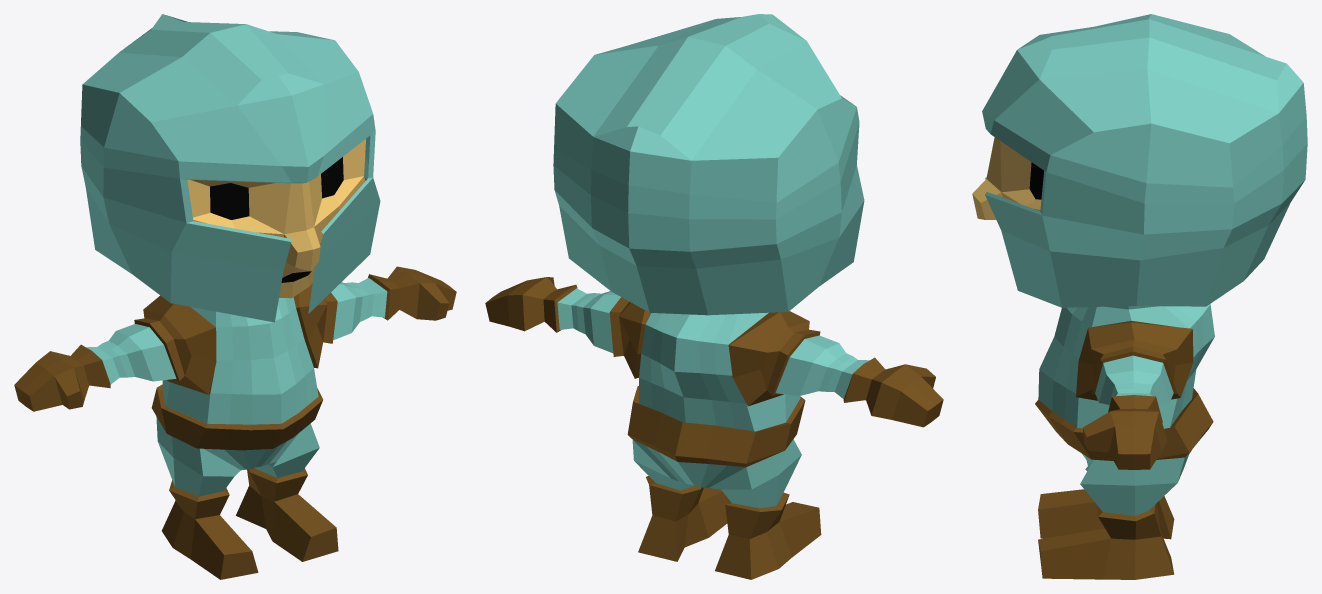
Rendered from player_separated_2.fbx.
The picture shows the model from 3 angles, left to right: view 1: azimuth 30°, elevation 25°; view 2: azimuth 150°, elevation 25°; view 3: azimuth 270°, elevation 25°; orthographic projection. The views are drawn at different scales.
Parts seen in each view (by area): view 1: final knight.006, final knight.007, final knight.008, final knight.005; view 2: final knight.006, final knight.007, final knight.008; view 3: final knight.006, final knight.007, final knight.008, final knight.005.
Part boxes in pixels (bbox=[...]): final knight.006: bbox=[80, 14, 380, 322]; final knight.007: bbox=[14, 266, 456, 424]; final knight.008: bbox=[151, 384, 338, 579]; final knight.005: bbox=[187, 139, 365, 298]; final knight.006: bbox=[553, 14, 864, 315]; final knight.007: bbox=[485, 277, 943, 431]; final knight.008: bbox=[627, 386, 821, 579]; final knight.006: bbox=[982, 14, 1307, 307]; final knight.007: bbox=[1038, 304, 1214, 469]; final knight.008: bbox=[1035, 388, 1213, 579]; final knight.005: bbox=[972, 137, 1043, 219].
Bounding box in the file's own units: 134 × 150 × 86.99.
